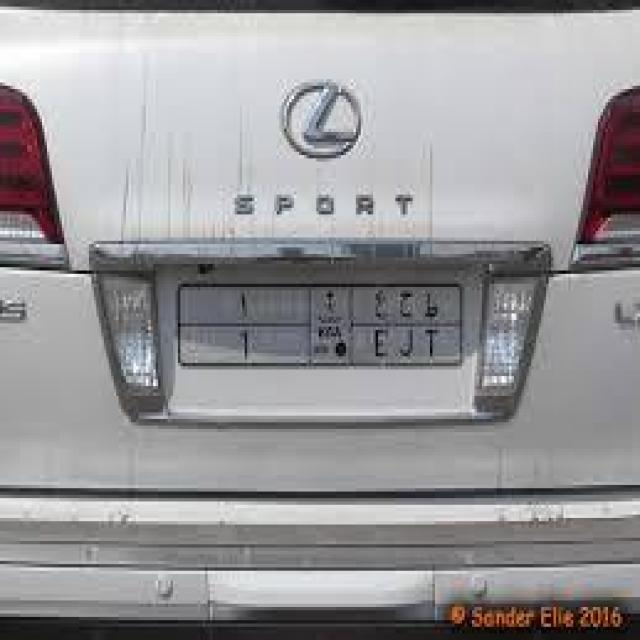license_plate: (173, 274, 477, 370)
